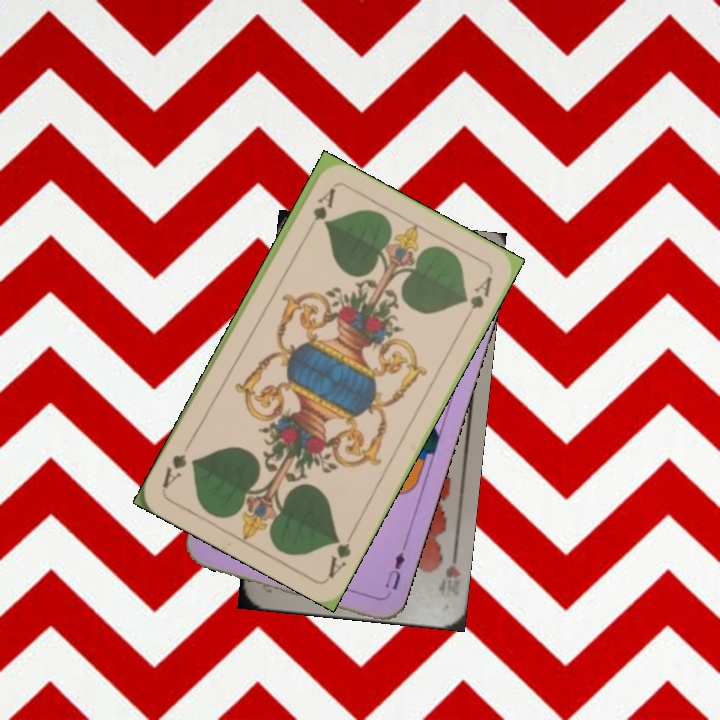EU: (381, 548, 408, 592)
GA: (302, 184, 339, 238), (323, 525, 358, 581)
H10: (441, 545, 462, 581)
